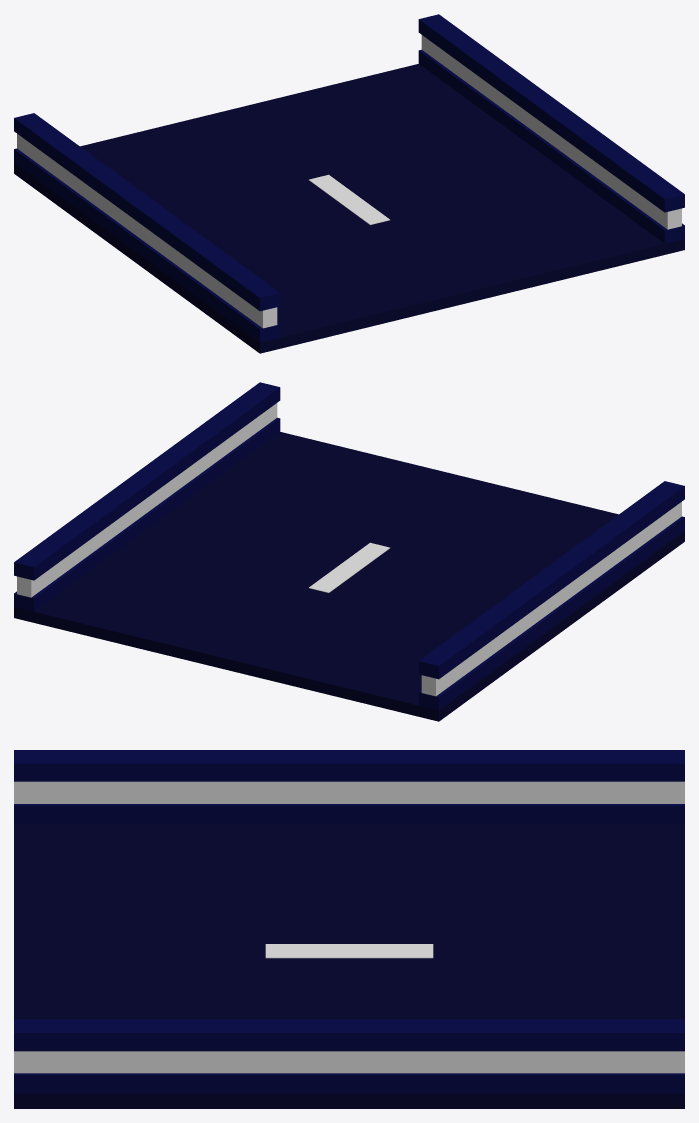
File: road.fbx
The picture shows the model from 3 angles, top to bottom: view 1: azimuth 30°, elevation 25°; view 2: azimuth 150°, elevation 25°; view 3: azimuth 270°, elevation 25°; orthographic projection. The views are drawn at different scales.
Parts seen in each view (by area): view 1: Плоскость; view 2: Плоскость; view 3: Плоскость.
Part boxes in pixels (x1,y1,x2,y2): Плоскость: [14, 14, 684, 353]; Плоскость: [14, 382, 684, 721]; Плоскость: [14, 750, 684, 1108].
Size of the model in its own units: 798 by 100 by 800.
